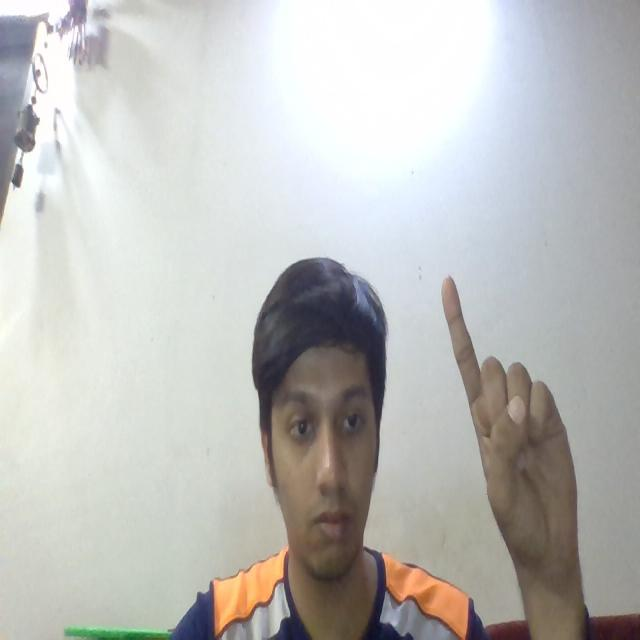Z: (433, 263, 619, 587)
